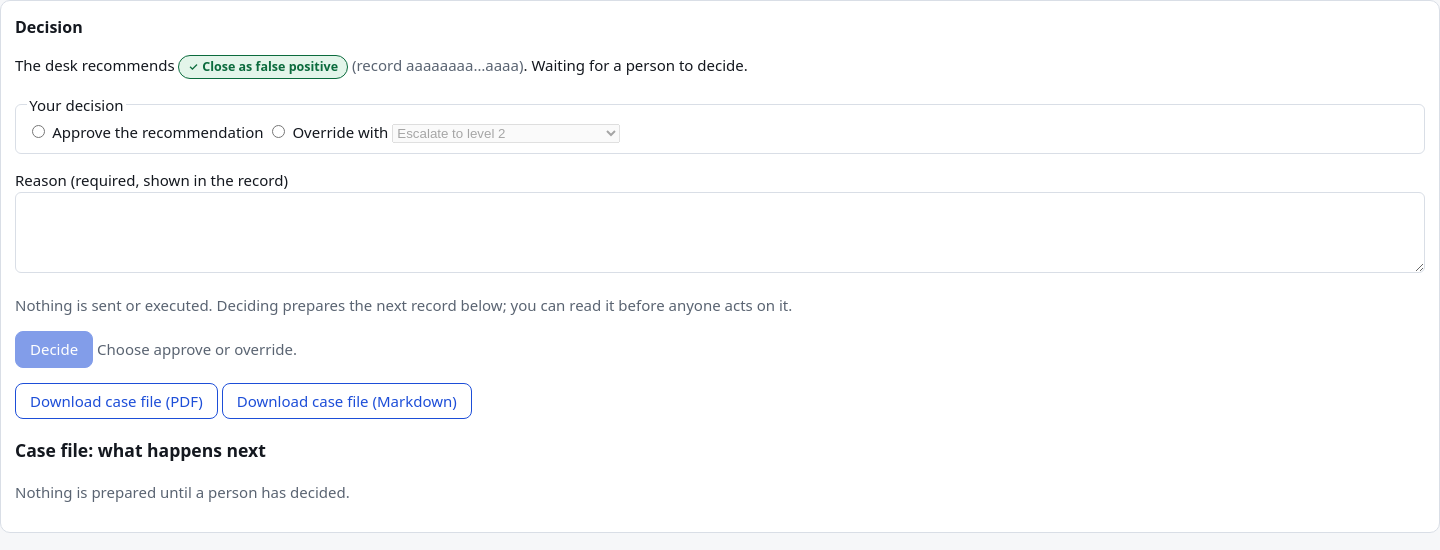
it: DecisionPanel › needs a reason before an analyst can approve, then sends the decision with the record hash
Click the radio button labelled "Approve the recommendation". click: x=39, y=132
box: [32,125,45,138]
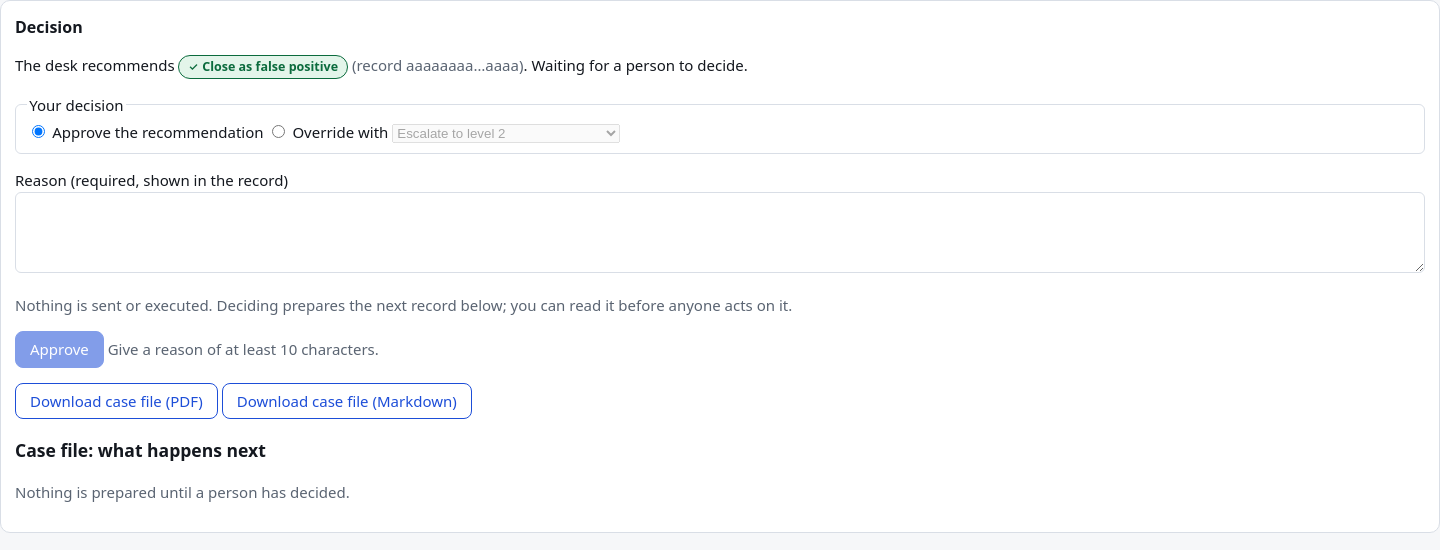
Check: the button "Approve" is disabled, box [15,331,104,368]
Check: the text "Give a reason of at least 10 characters." is shown, box [108,339,379,359]
Type "Dates of birth differ by 14 years." into the text box. click: x=720, y=232
box: [15,192,1425,273]
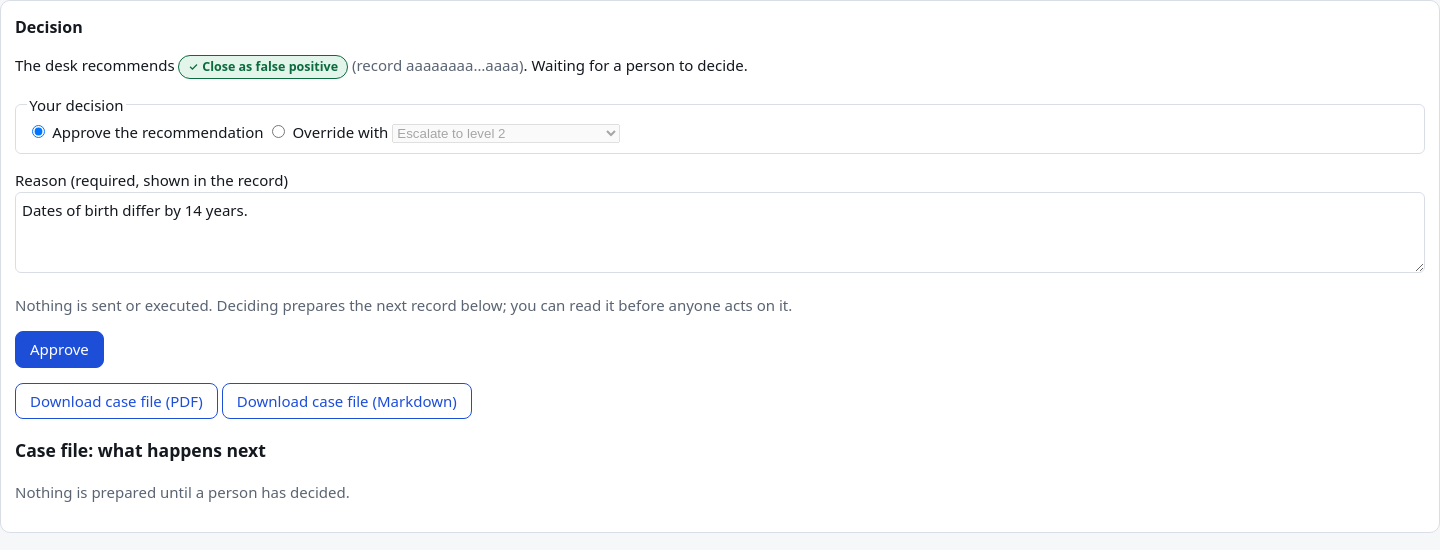
Check: the button "Approve" is enabled
Click the button "Approve". click: x=59, y=349
box: [15,331,104,368]
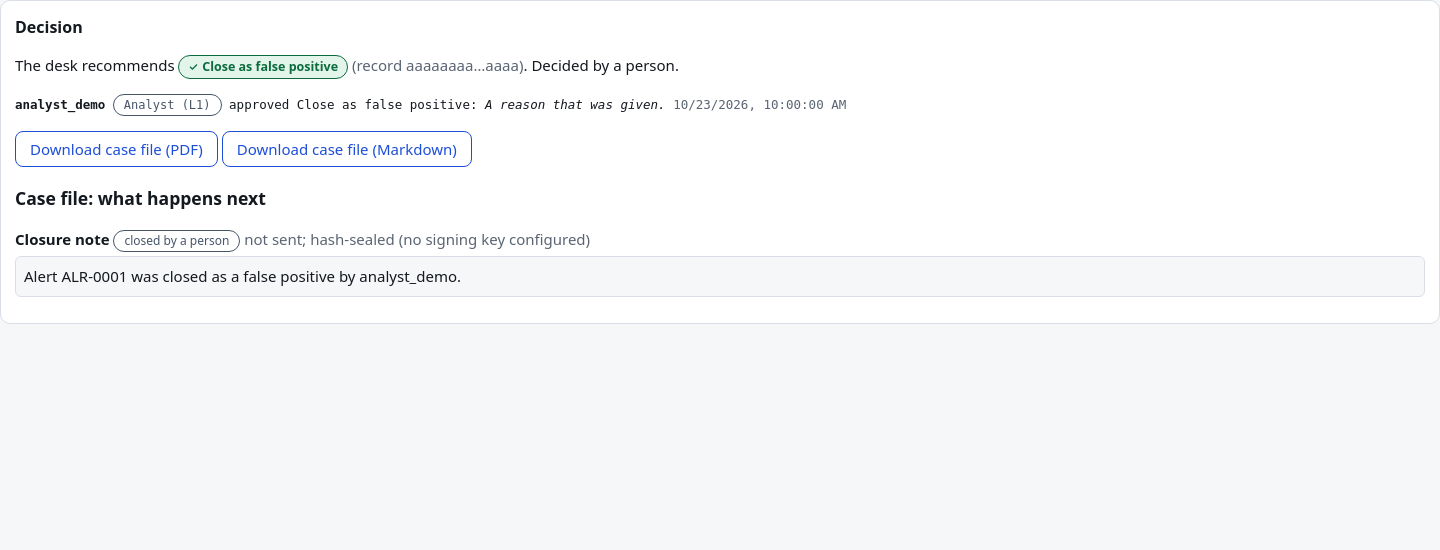
Check: the text "Decided by a person" is shown, box [531,55,675,75]
Check: the text "Closure note" is shown, box [15,229,110,249]
Check: the text "not sent; hash-sealed (no signing key configured)" is shown, box [244,229,590,249]
